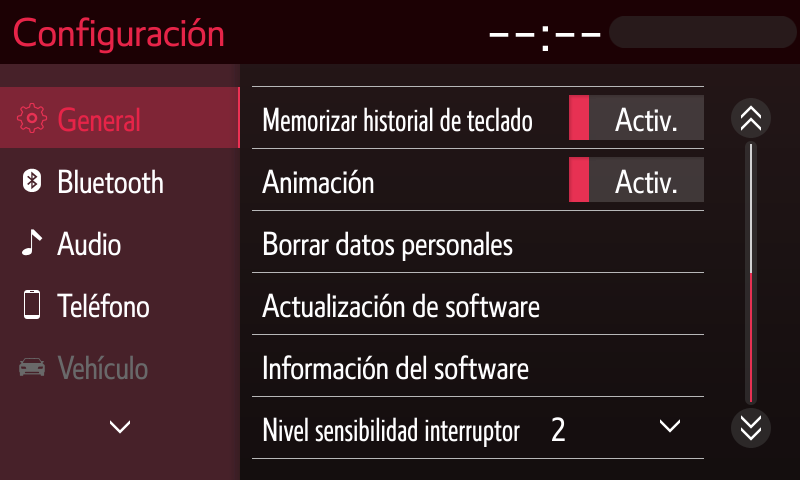touchPart: (245, 267, 707, 346), (247, 77, 707, 153), (246, 204, 712, 278), (251, 393, 706, 466), (248, 330, 708, 402), (248, 145, 712, 214), (9, 280, 163, 325), (16, 163, 167, 199), (16, 223, 144, 258), (728, 408, 773, 452), (725, 96, 775, 135), (103, 414, 138, 442)
untouchPart: (2, 84, 243, 152), (477, 13, 798, 50), (12, 9, 234, 48), (8, 346, 164, 387)
